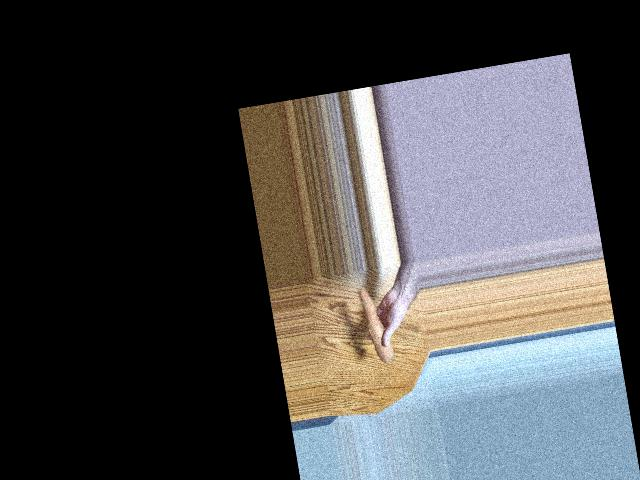sweet_potato: (361, 286, 388, 363)
